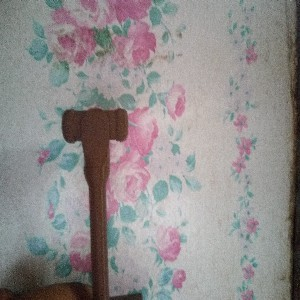palu: (61, 105, 128, 300)
